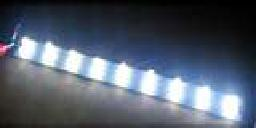LED: (39, 39, 63, 68), (112, 62, 134, 92), (139, 68, 162, 96), (88, 55, 109, 81)
